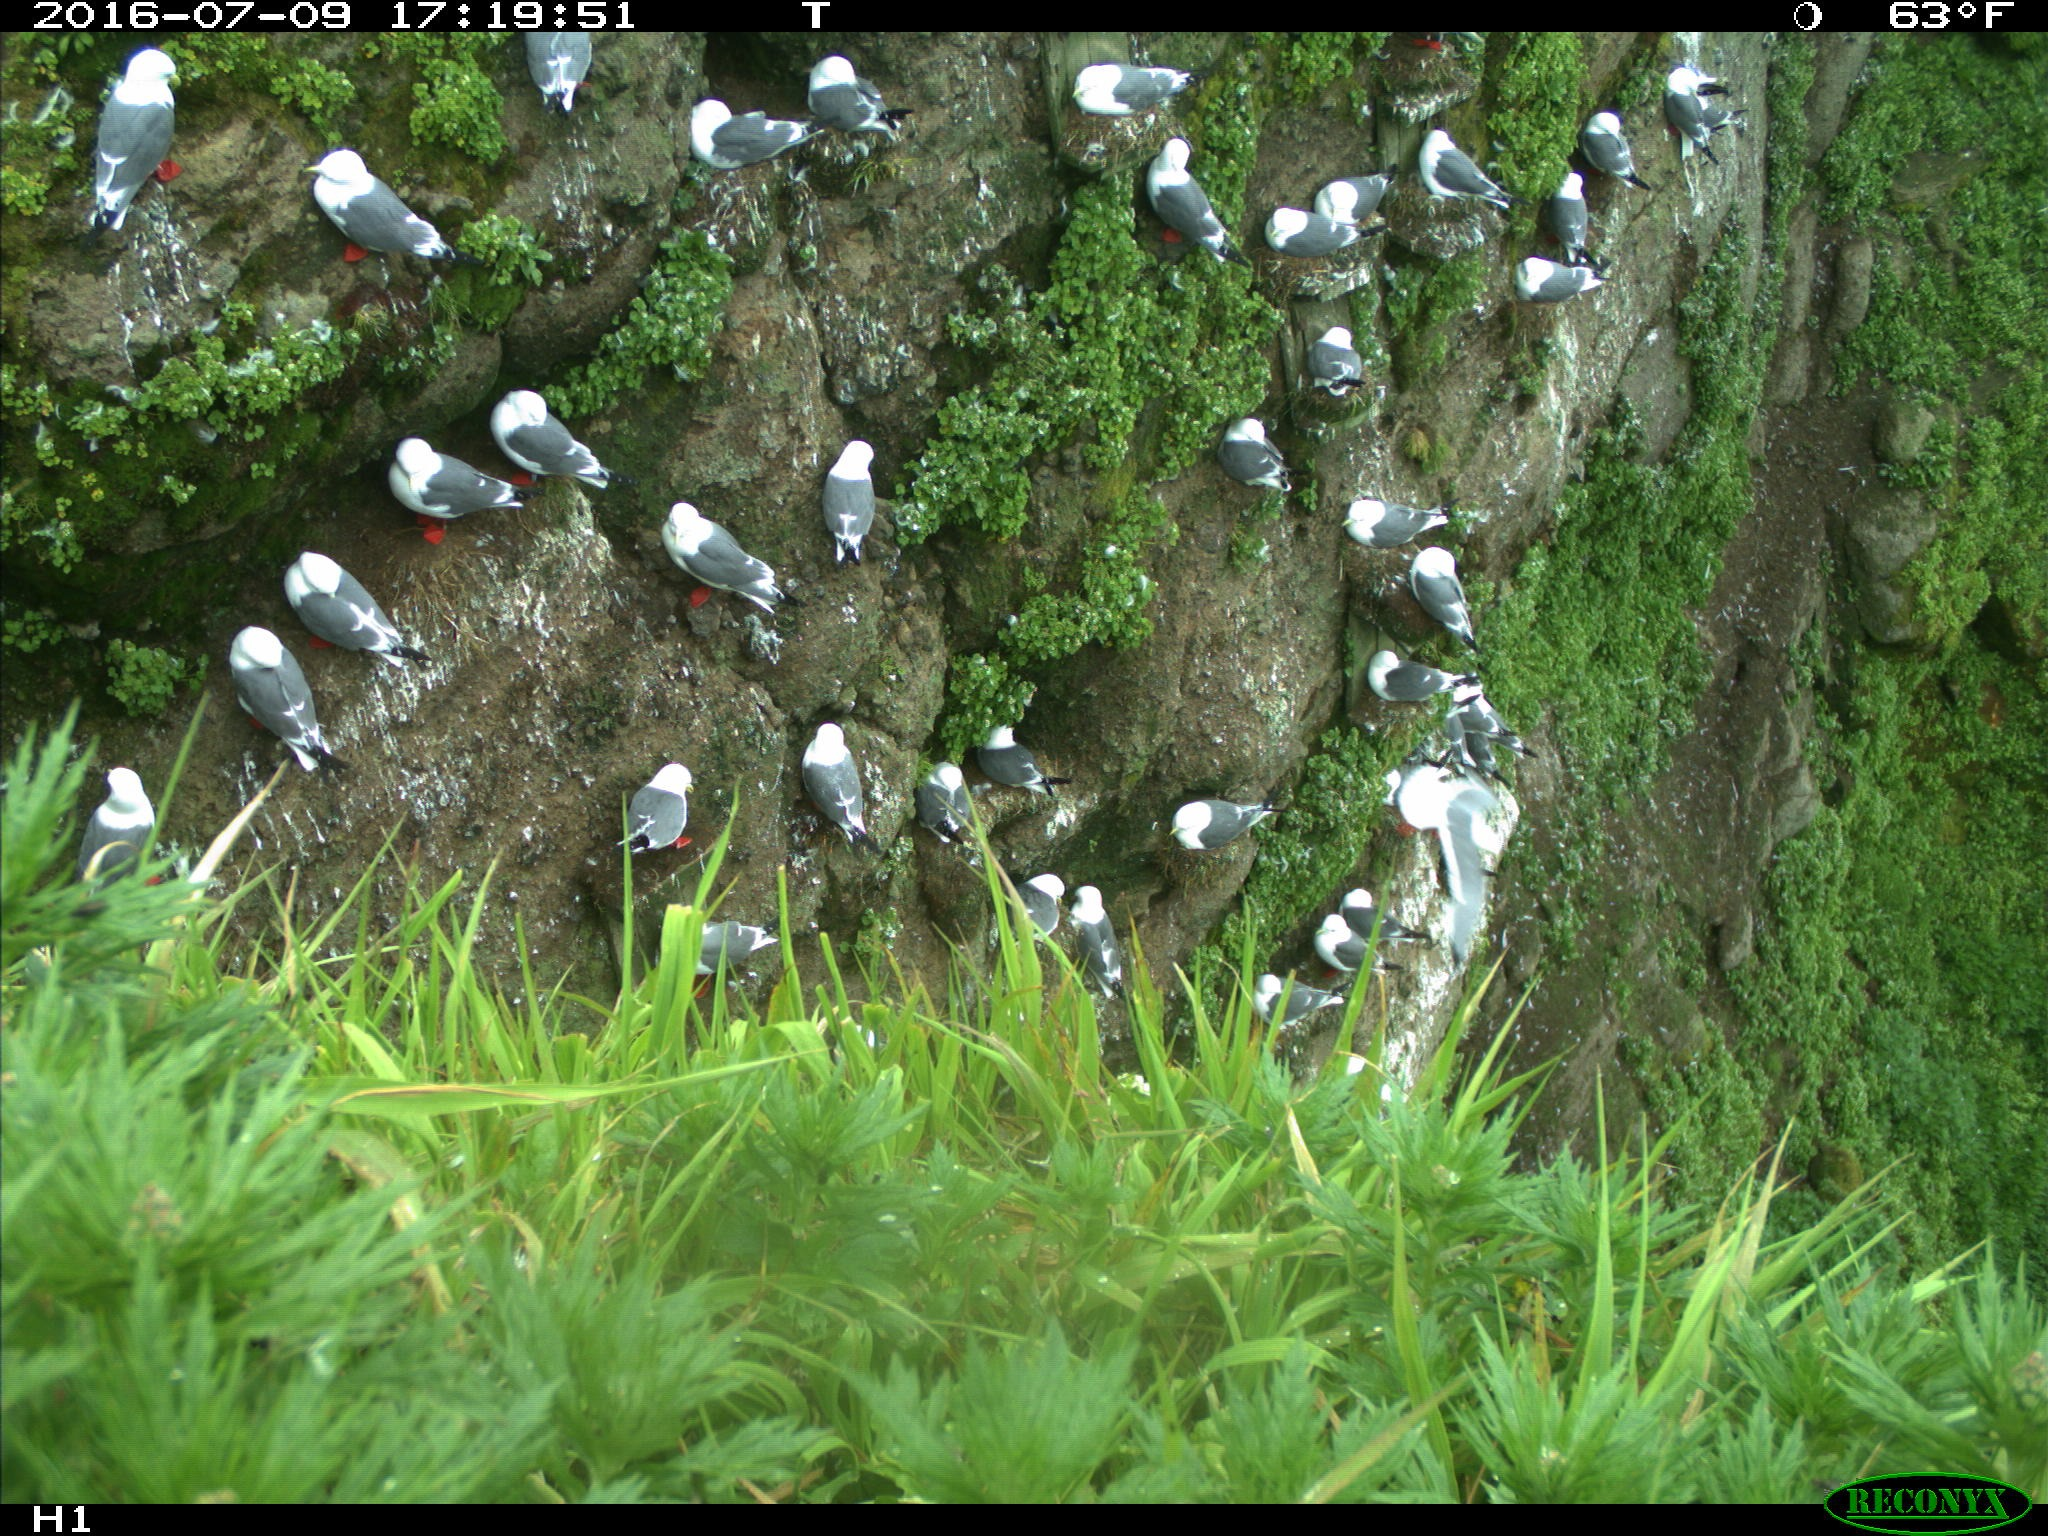Kittiwake: (52, 37, 202, 257), (276, 524, 455, 705), (640, 482, 810, 645), (303, 108, 432, 316), (353, 416, 539, 557), (227, 579, 353, 771), (582, 742, 774, 865), (800, 424, 955, 563), (468, 366, 634, 484), (65, 749, 192, 895), (1113, 136, 1250, 271), (669, 79, 845, 182), (793, 700, 918, 837), (959, 686, 1074, 828), (1135, 786, 1288, 876), (1200, 400, 1324, 511), (1392, 532, 1513, 645), (1651, 61, 1755, 190), (789, 47, 913, 153), (655, 905, 808, 987), (1256, 934, 1342, 1075), (1326, 463, 1451, 557), (1305, 145, 1401, 266), (1405, 119, 1538, 207), (1051, 52, 1214, 121), (1000, 849, 1080, 984), (1284, 313, 1400, 407), (1350, 624, 1467, 713), (1329, 863, 1429, 963), (895, 734, 979, 849), (1579, 90, 1680, 182), (1295, 900, 1387, 1000), (1263, 179, 1350, 281), (1526, 173, 1608, 278), (1500, 253, 1614, 324), (1056, 871, 1114, 1010), (1388, 763, 1487, 841), (519, 31, 601, 118), (1558, 97, 1621, 186)
